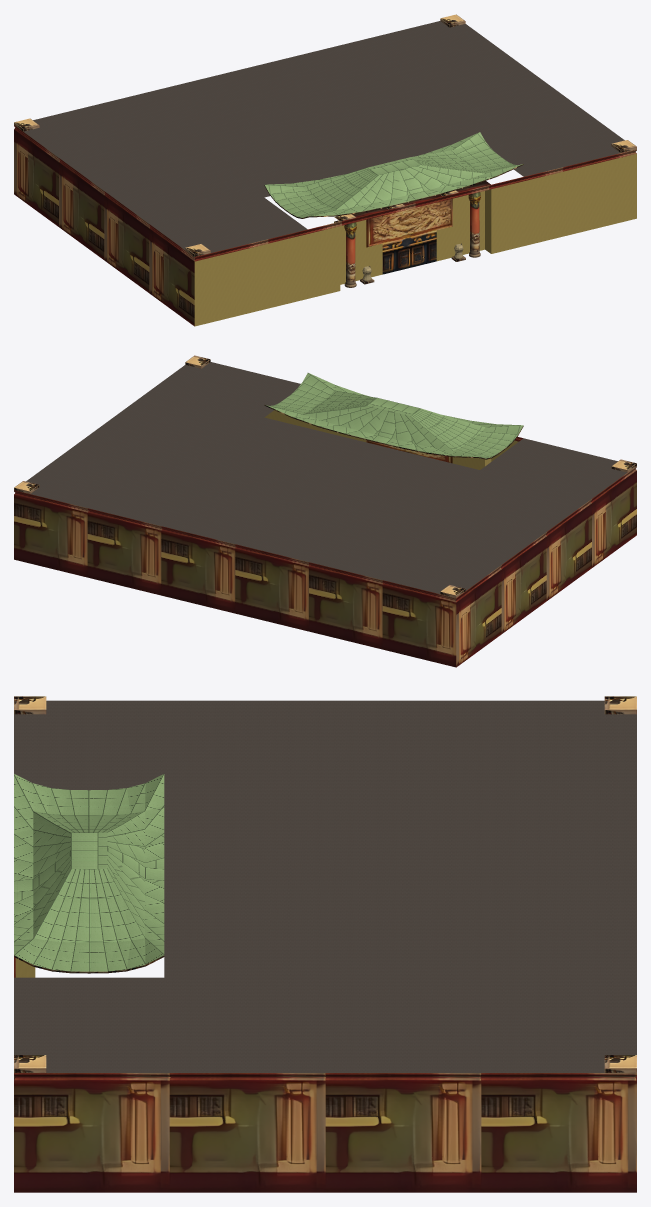
The model's file is LM_Graumans.fbx.
3 renders of one model, top to bottom at view 1: azimuth 30°, elevation 25°; view 2: azimuth 150°, elevation 25°; view 3: azimuth 270°, elevation 25°, orthographic. The views are drawn at different scales.
Parts seen in each view (by area): view 1: LM_Graumans; view 2: LM_Graumans; view 3: LM_Graumans.
Boxes of the visible parts, box(x1,y1,x2,y2) form: LM_Graumans: box(14, 14, 636, 326); LM_Graumans: box(14, 355, 636, 667); LM_Graumans: box(14, 696, 636, 1192).
Size of the model in its own units: 82 by 58 by 16.
Materials: 1 (1 with a texture image).
